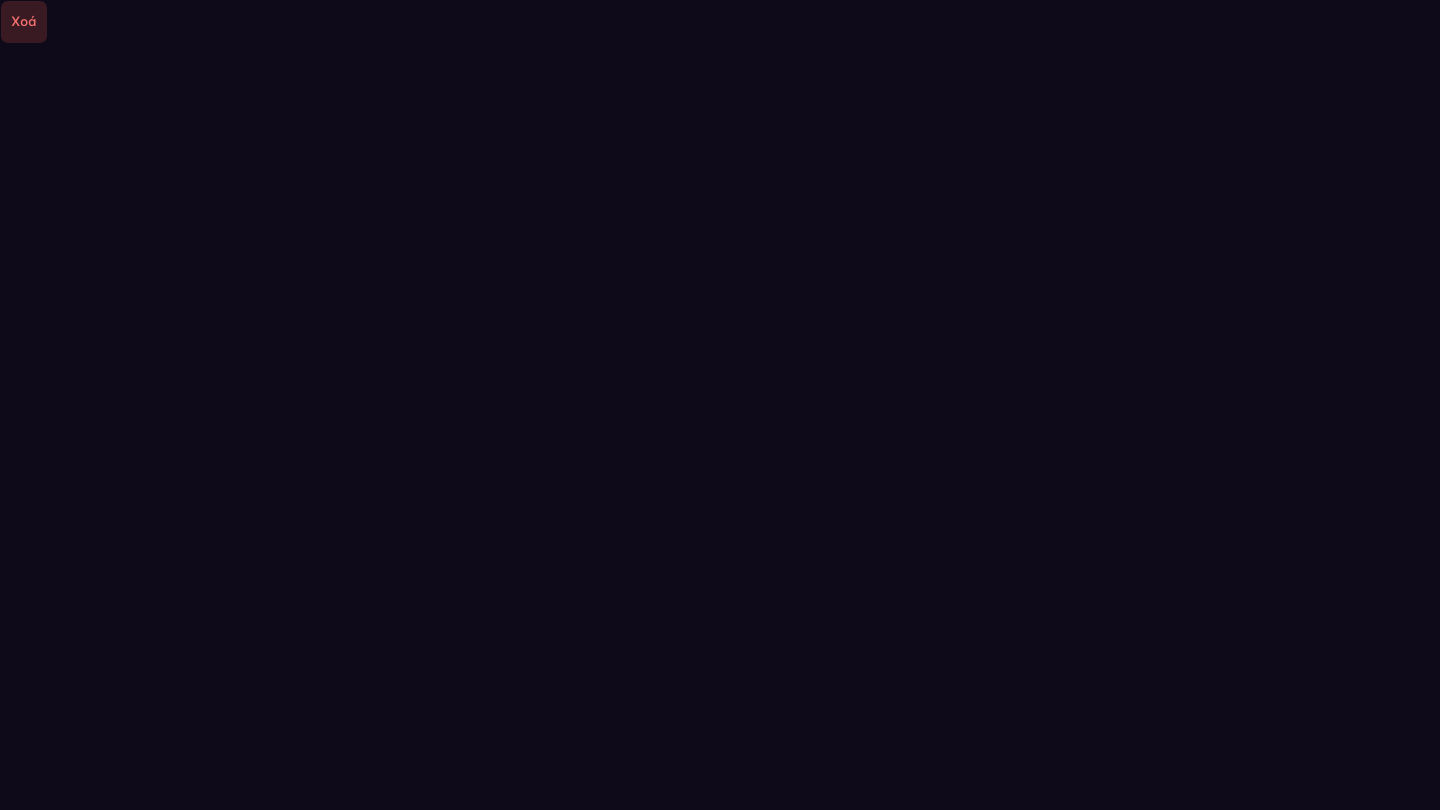
Test: DeleteUserForm › asks for confirmation before deleting; Huỷ deletes nothing
Later steps or results of the test are not shown.
Click the button "Xoá". click: click(24, 22)
box: [0,0,48,44]
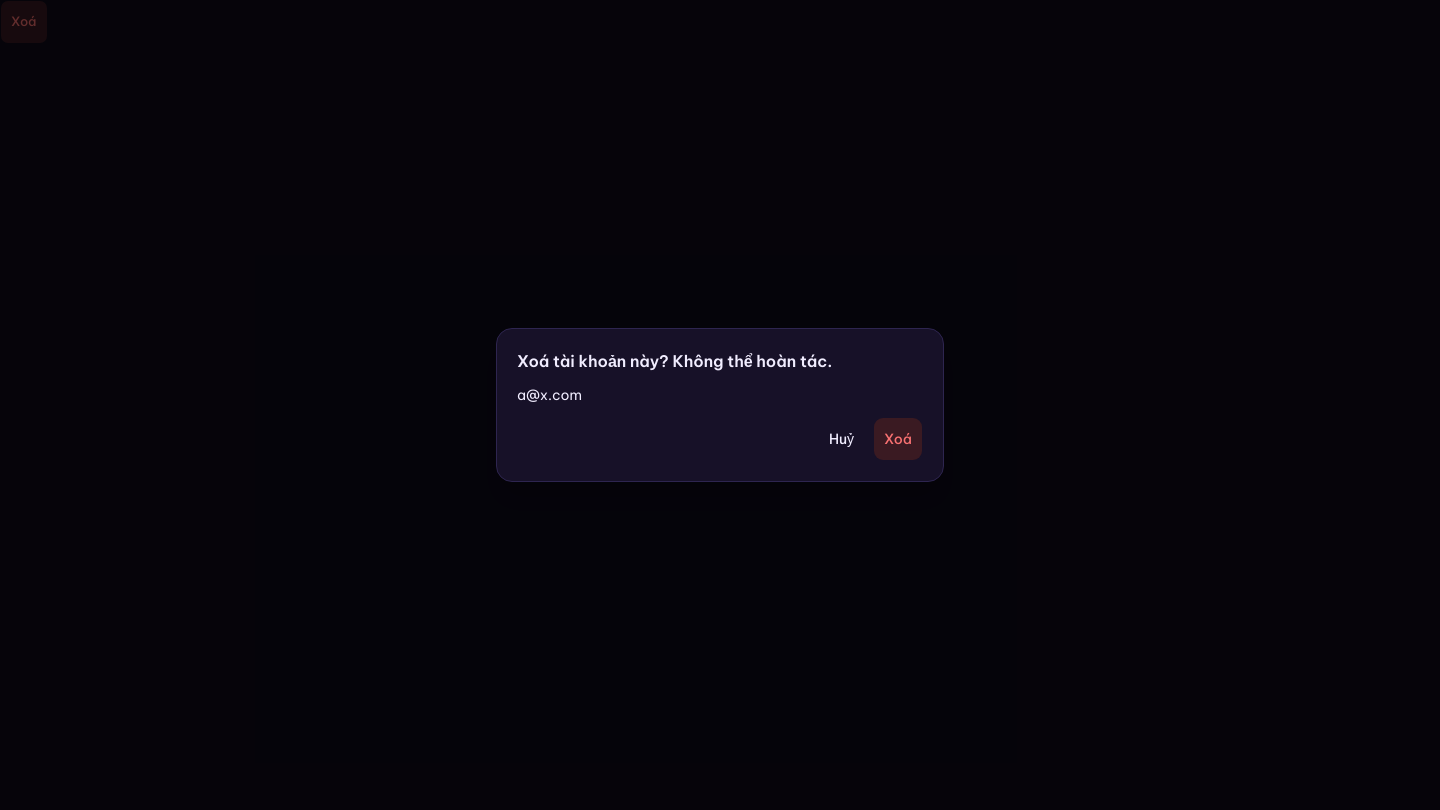
Expected: the dialog shows "Xoá tài khoản này? Không thể hoàn tác.", [517,351,832,371]
Expected: the dialog shows "a@x.com", [517,386,582,404]
Click the button "Huỷ". click: click(842, 439)
box: [818,417,865,461]
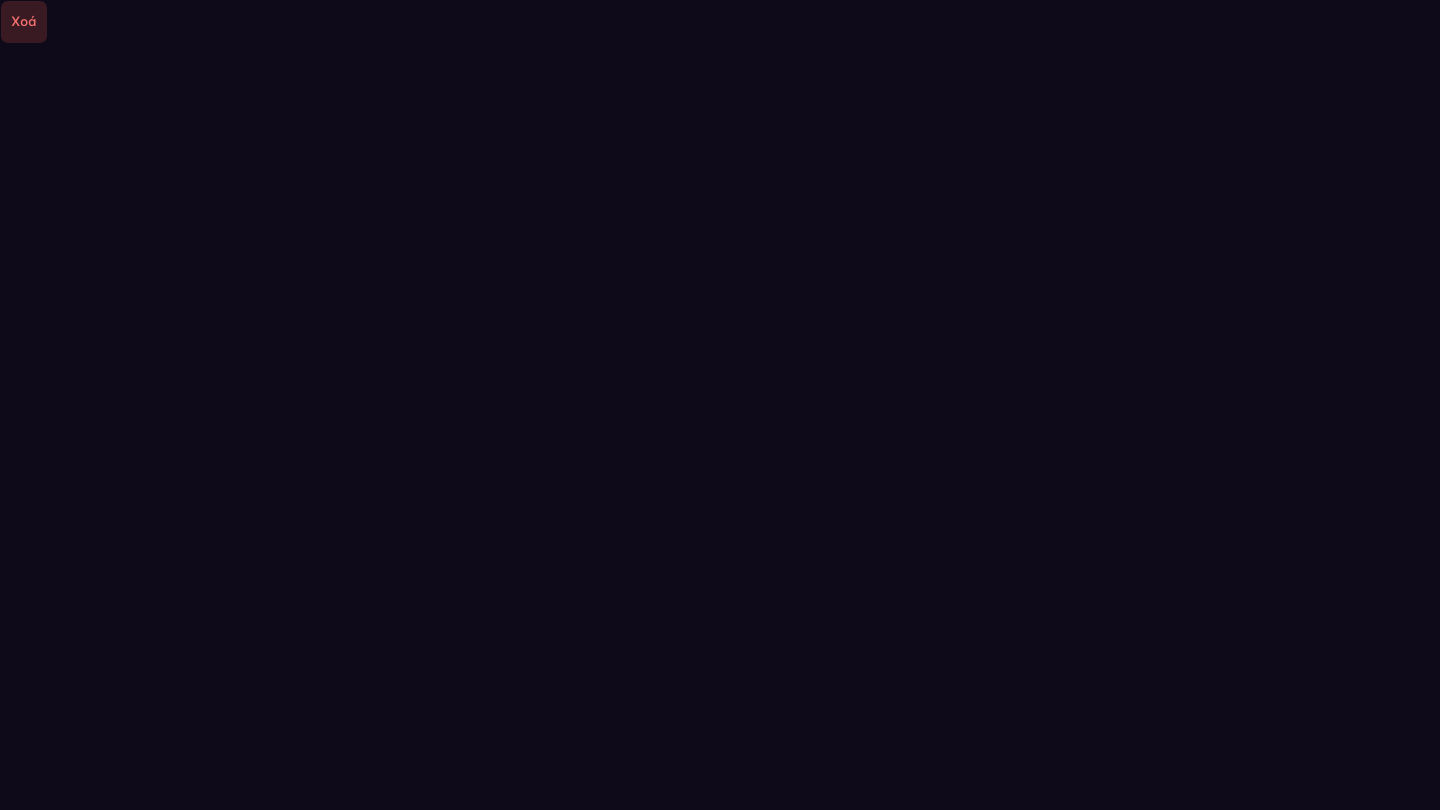
Expected: the dialog is gone
